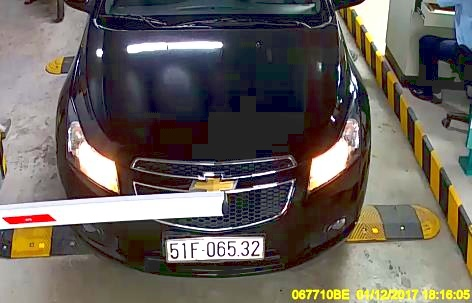plate: (163, 233, 270, 263)
